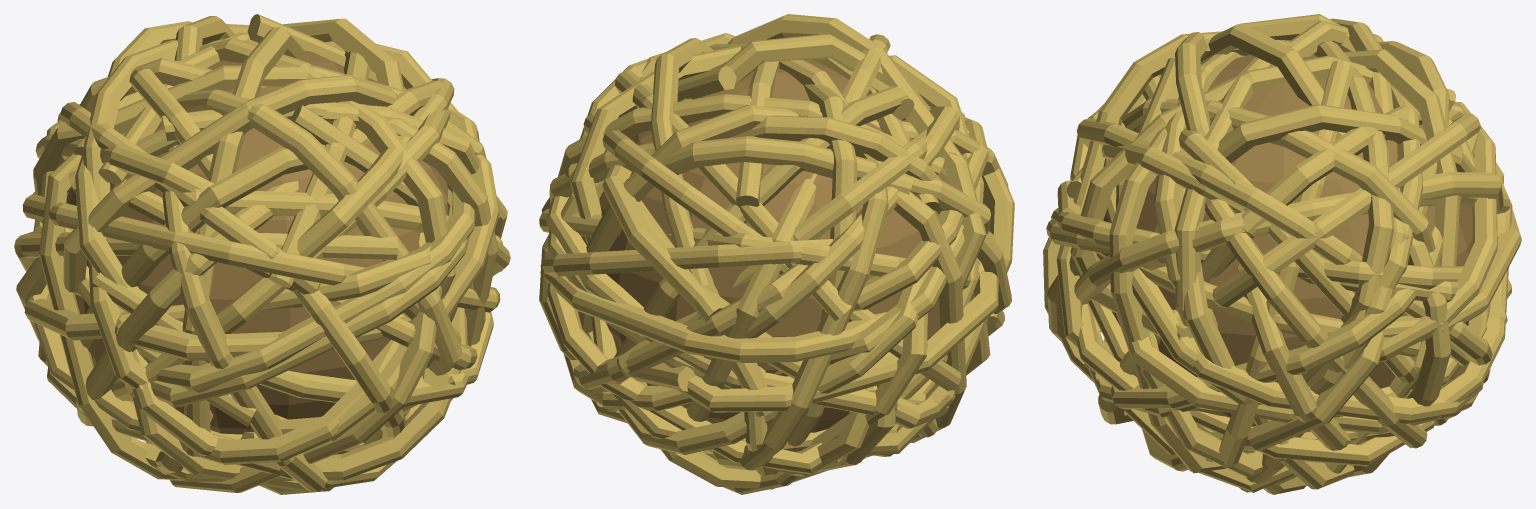
The model's file is Ramen Ball.fbx.
The picture shows the model from 3 angles, left to right: view 1: azimuth 30°, elevation 25°; view 2: azimuth 150°, elevation 25°; view 3: azimuth 270°, elevation 25°; orthographic projection. The views are drawn at different scales.
Visible parts, largest first — view 1: pCylinder25; view 2: pCylinder25; view 3: pCylinder25.
Part boxes in pixels (bbox=[...]): pCylinder25: bbox=[14, 14, 510, 494]; pCylinder25: bbox=[539, 14, 1014, 494]; pCylinder25: bbox=[1043, 14, 1521, 494].
Size of the model in its own units: 5.57 by 5.56 by 5.57.
